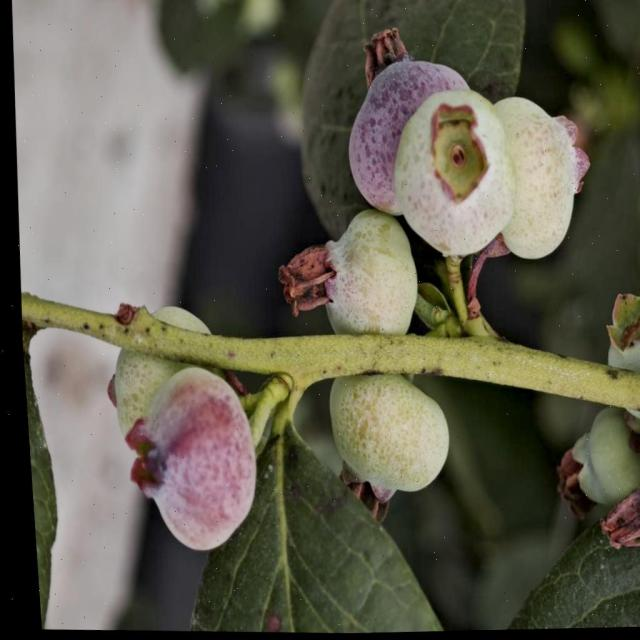Semi-RipeBlueBerry: (125, 368, 265, 559)
UnripeBlueBerry: (394, 85, 518, 274), (476, 96, 586, 277), (318, 376, 454, 502)
